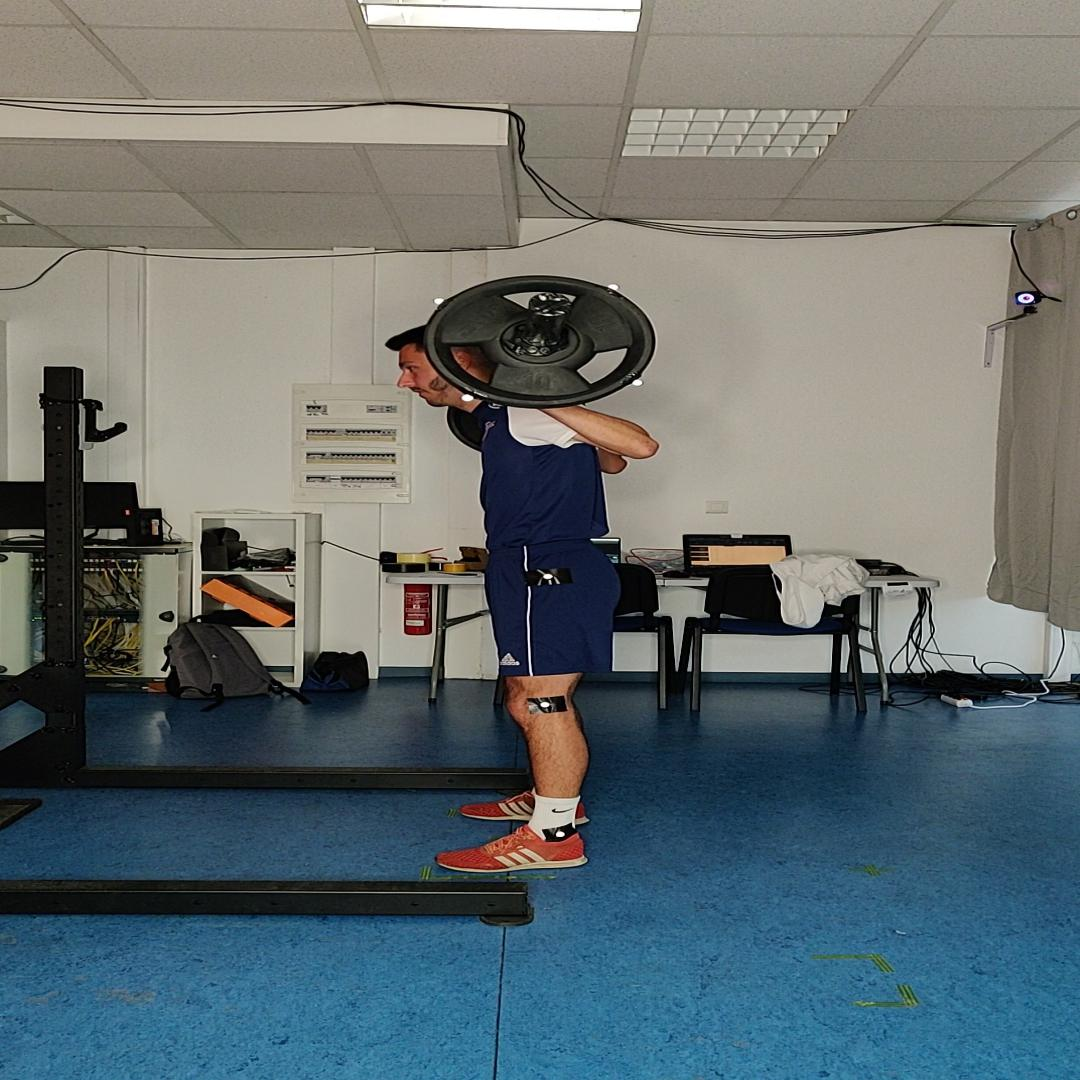Bar: (528, 292, 572, 316)
Barbell: (424, 276, 655, 408)
